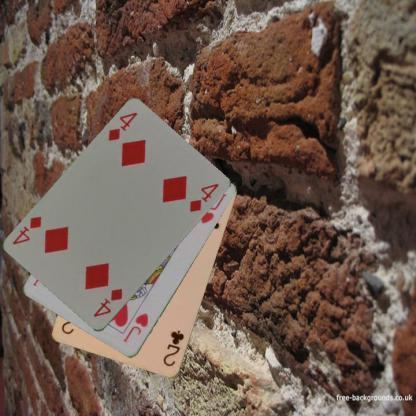2c: (160, 328, 186, 368)
4d: (90, 286, 124, 319), (105, 110, 139, 142)
Jh: (120, 310, 150, 344)
